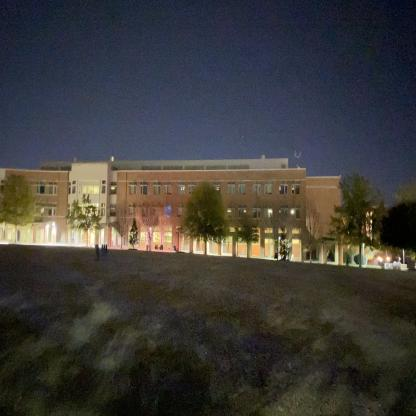eb3: (1, 152, 403, 280)
